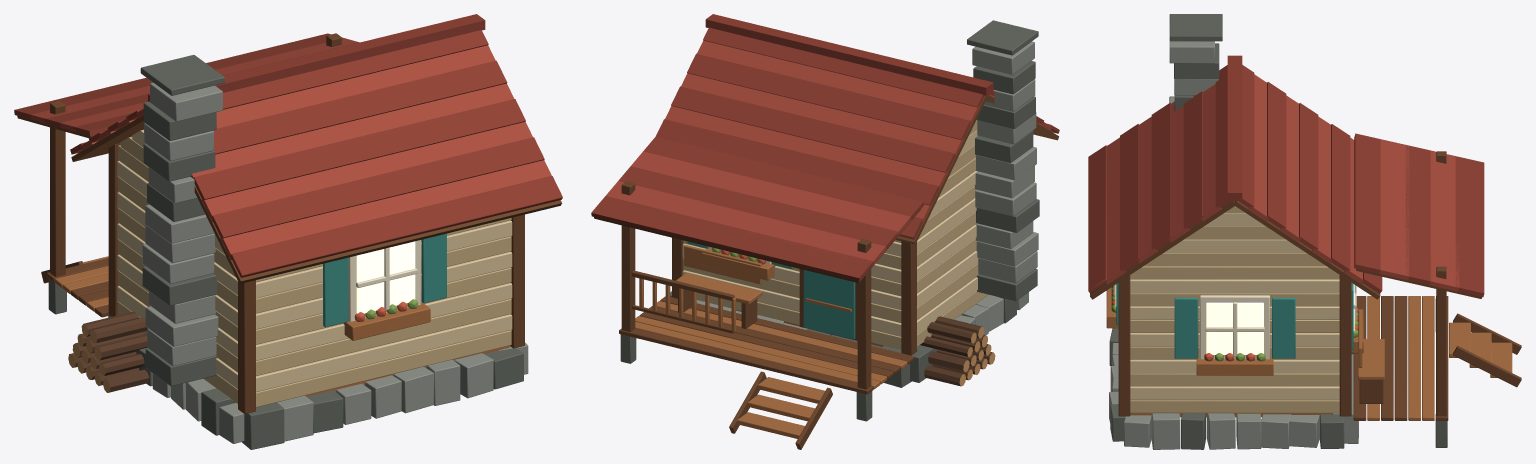
The model's file is Cabin.fbx.
3 renders of one model, left to right at view 1: azimuth 30°, elevation 25°; view 2: azimuth 150°, elevation 25°; view 3: azimuth 270°, elevation 25°, orthographic. The views are drawn at different scales.
Visible parts, largest first — view 1: Cabin_Body, Cabin_Roof.001; view 2: Cabin_Body, Cabin_Roof.001; view 3: Cabin_Body, Cabin_Roof.001.
Boxes of the visible parts, x1,y1,x2,y2 form: Cabin_Body: [41, 33, 562, 449]; Cabin_Roof.001: [14, 14, 561, 283]; Cabin_Body: [619, 20, 1059, 449]; Cabin_Roof.001: [591, 14, 1058, 282]; Cabin_Body: [1088, 14, 1521, 449]; Cabin_Roof.001: [1090, 55, 1484, 299].
Bounding box in the file's own units: 4.72 × 4.61 × 5.88.
